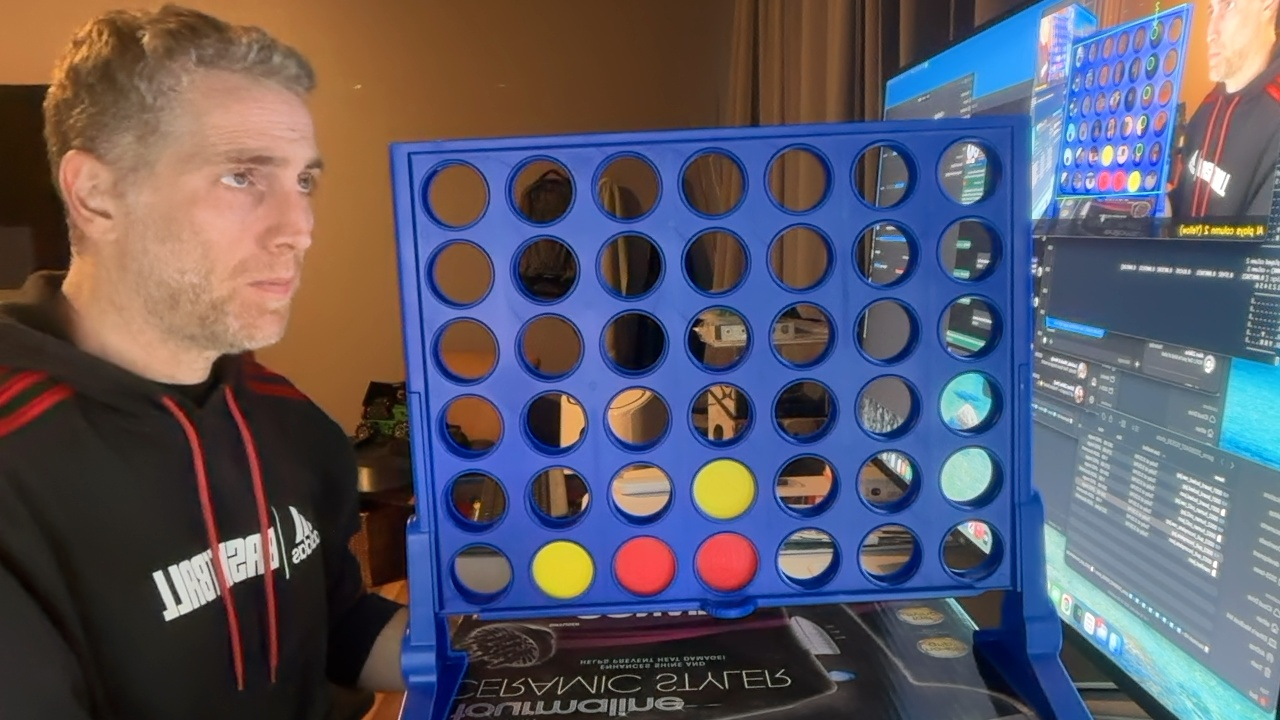red piece: (695, 532, 758, 592), (614, 536, 675, 595)
yellow piece: (692, 459, 756, 519), (531, 541, 593, 599)
